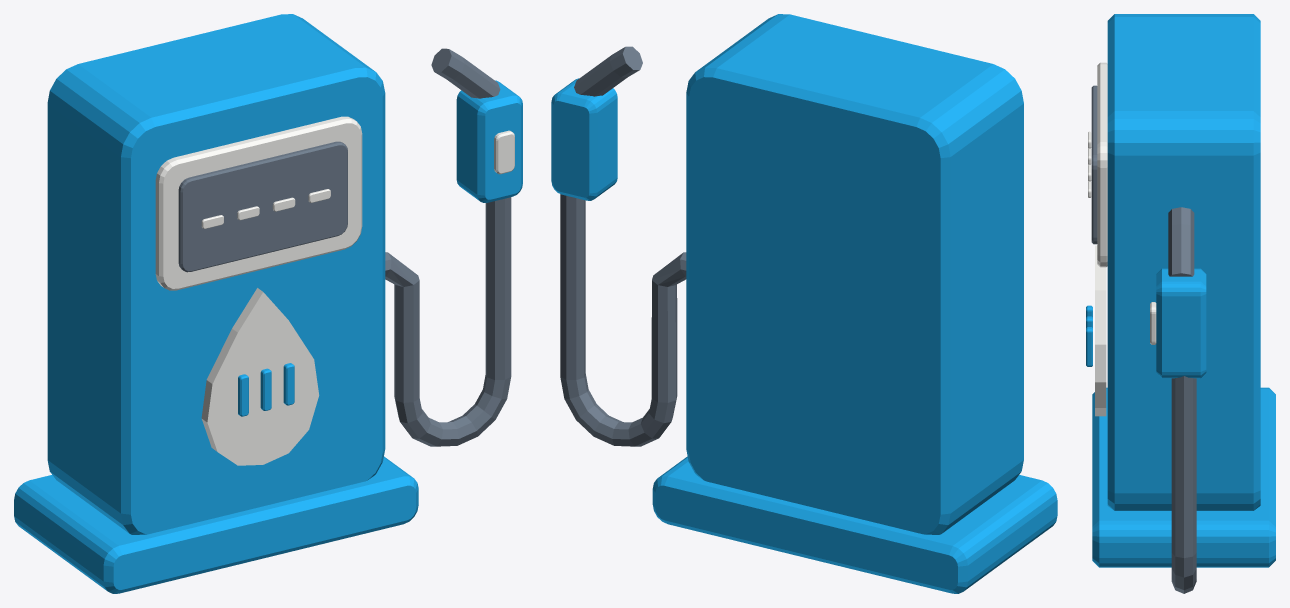
Rendered from diesel_s500.glb.
3 views of the same model, side by side, from view 1: azimuth 30°, elevation 25°; view 2: azimuth 150°, elevation 25°; view 3: azimuth 270°, elevation 25° (orthographic). The views are drawn at different scales.
Parts seen in each view (by area): view 1: diesel_s500; view 2: diesel_s500; view 3: diesel_s500.
Boxes of the visible parts, left/top/right/bottom form: diesel_s500: left=14, top=14, right=522, bottom=593; diesel_s500: left=551, top=14, right=1057, bottom=593; diesel_s500: left=1086, top=14, right=1275, bottom=593.
Bounding box in the file's own units: 1.78 × 1.73 × 0.6825.
